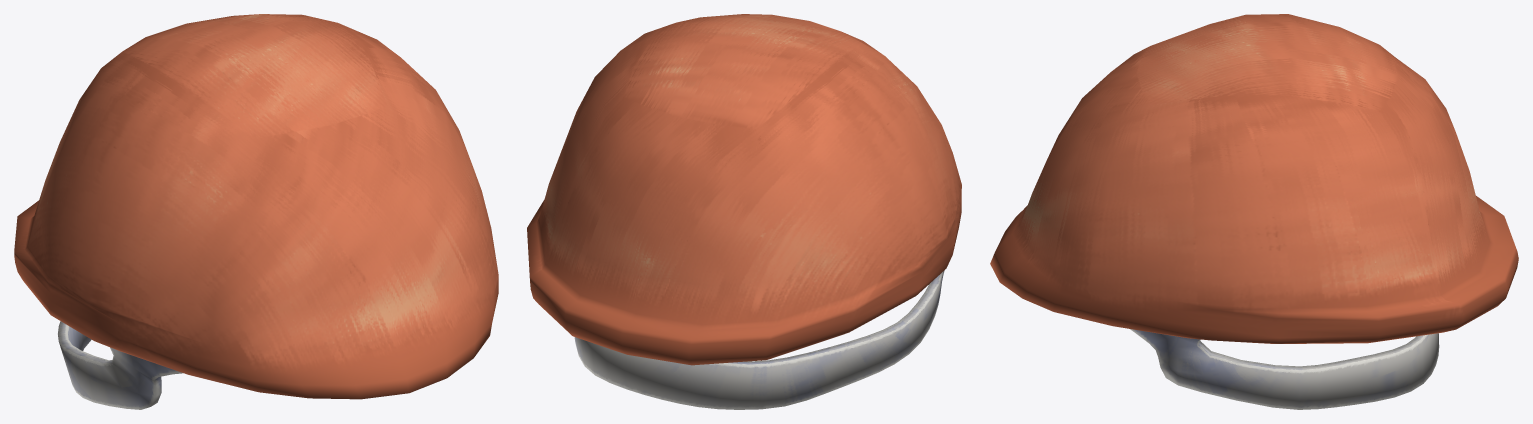
Rendered from Skin_AutoV2.fbx.
3 renders of one model, left to right at view 1: azimuth 30°, elevation 25°; view 2: azimuth 150°, elevation 25°; view 3: azimuth 270°, elevation 25°, orthographic. The views are drawn at different scales.
Visible parts, largest first — view 1: Sphere; view 2: Sphere; view 3: Sphere.
Part boxes in pixels (x1,y1,x2,y2): Sphere: [14, 14, 498, 409]; Sphere: [527, 14, 961, 409]; Sphere: [990, 14, 1518, 409].
Bounding box in the file's own units: 93.77 × 73.57 × 116.
